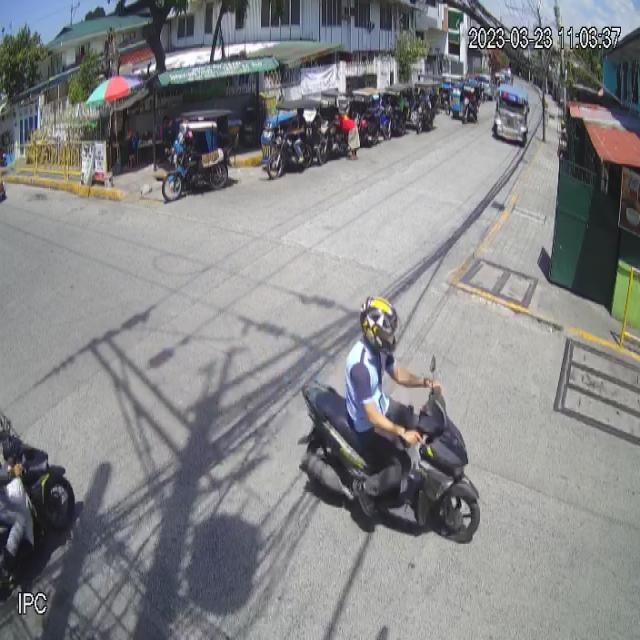Motorcycle: (297, 356, 479, 542)
